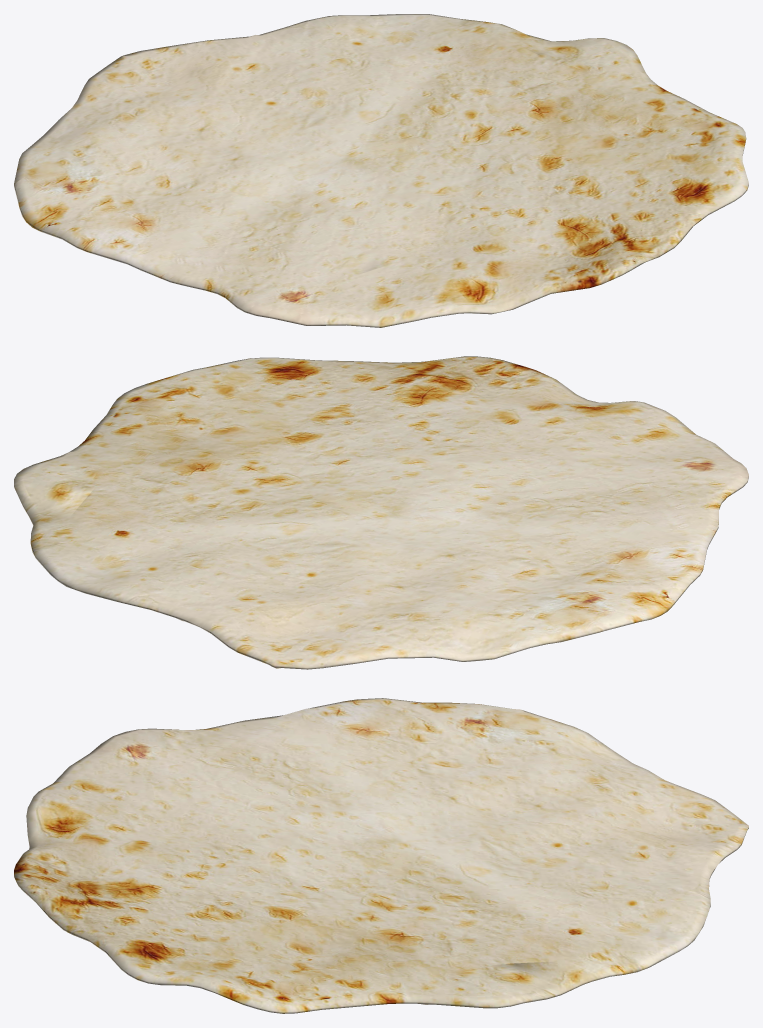
File: Pita bread.FBX
3 views of the same model, one above another, from view 1: azimuth 30°, elevation 25°; view 2: azimuth 150°, elevation 25°; view 3: azimuth 270°, elevation 25° (orthographic). The views are drawn at different scales.
Parts seen in each view (by area): view 1: pita bread; view 2: pita bread; view 3: pita bread.
Part boxes in pixels (x1,y1,x2,y2): pita bread: (14,14,748,327); pita bread: (14,356,748,669); pita bread: (14,698,748,1013).
Size of the model in its own units: 23.86 by 0.9405 by 23.76.
Materials: 1 (1 with a texture image).
